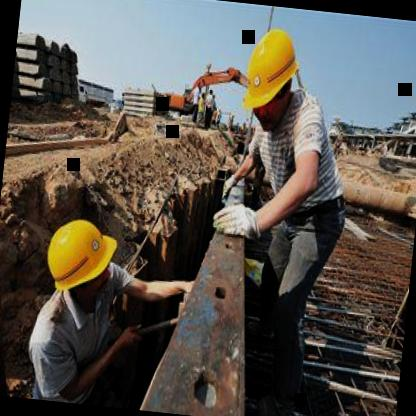helmet: (231, 11, 311, 142), (41, 213, 117, 308)
